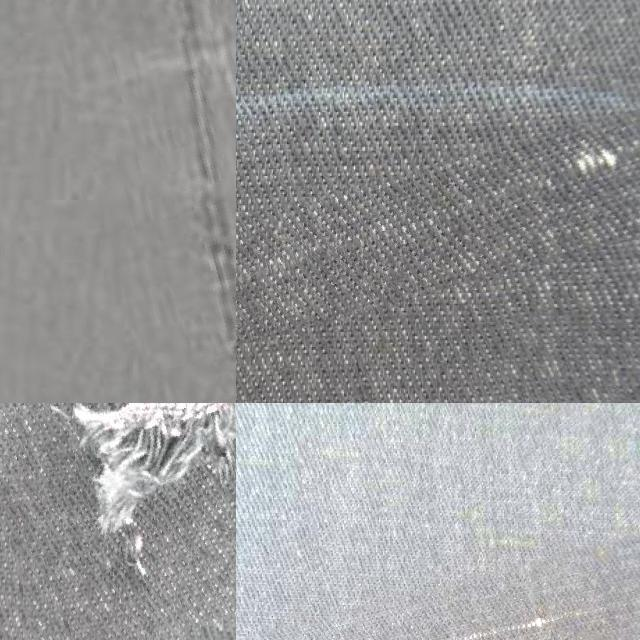Thread_other: (236, 148, 640, 352), (81, 0, 236, 403), (0, 403, 236, 640), (236, 553, 640, 640)
